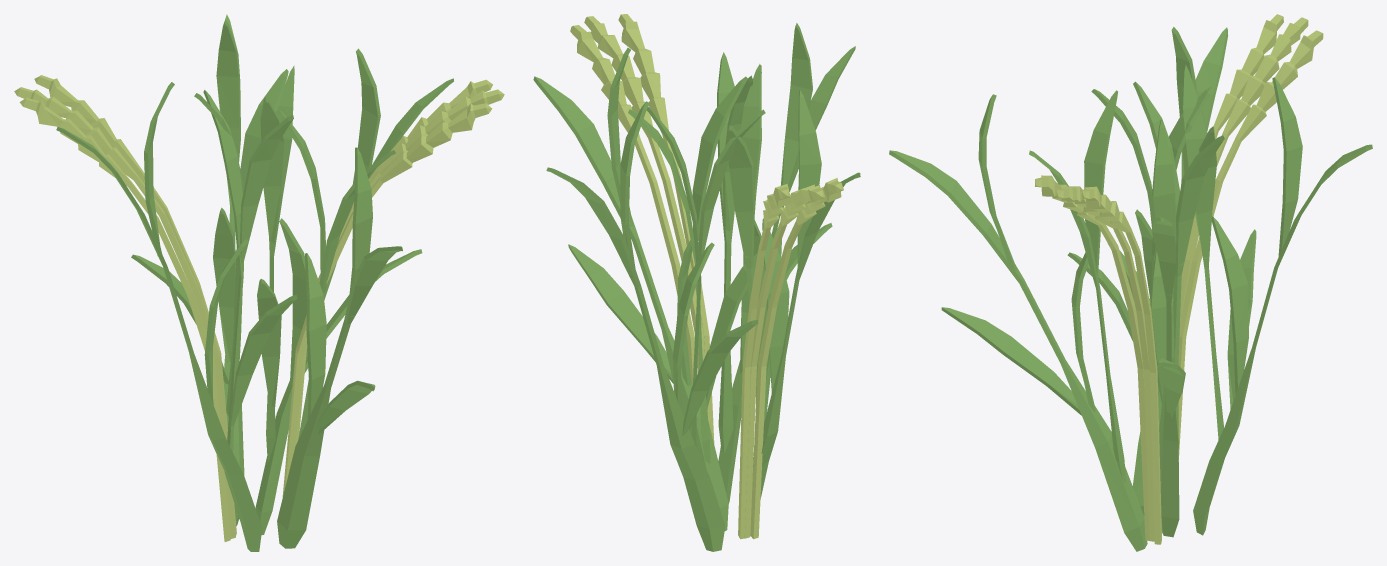
Rendered from Rice_4.glb.
3 renders of one model, left to right at view 1: azimuth 30°, elevation 25°; view 2: azimuth 150°, elevation 25°; view 3: azimuth 270°, elevation 25°, orthographic.
Visible parts, largest first — view 1: Rice_4; view 2: Rice_4; view 3: Rice_4.
Part boxes in pixels (x1,y1,x2,y2): Rice_4: (14,14,504,551); Rice_4: (533,14,860,551); Rice_4: (889,14,1372,551).
Bounding box in the file's own units: 0.7786 × 0.9535 × 0.8808.
